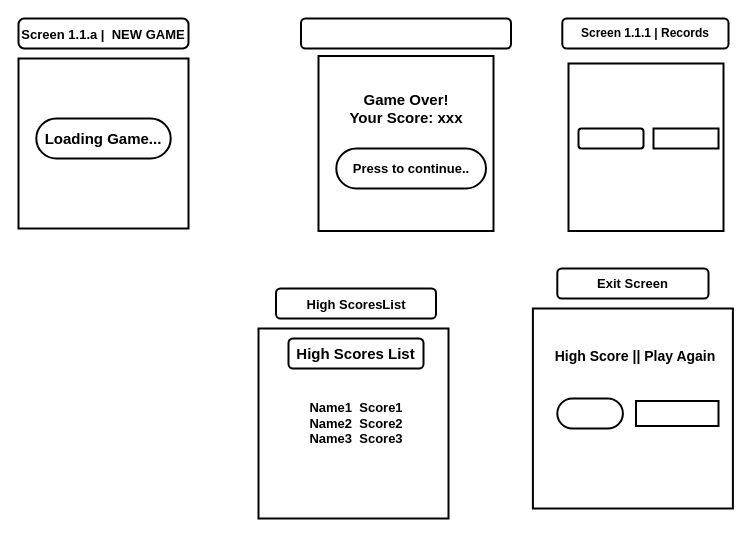
This 751x536 diagram has some shape labels left out. Here are the shapes that lost their labels. From the top down, the centre of each, then its label:
At (406,33): "Screen 1.1.b-c-d | GAME OVER".
At (610,138): "Name".
At (589,413): "Choice:".
